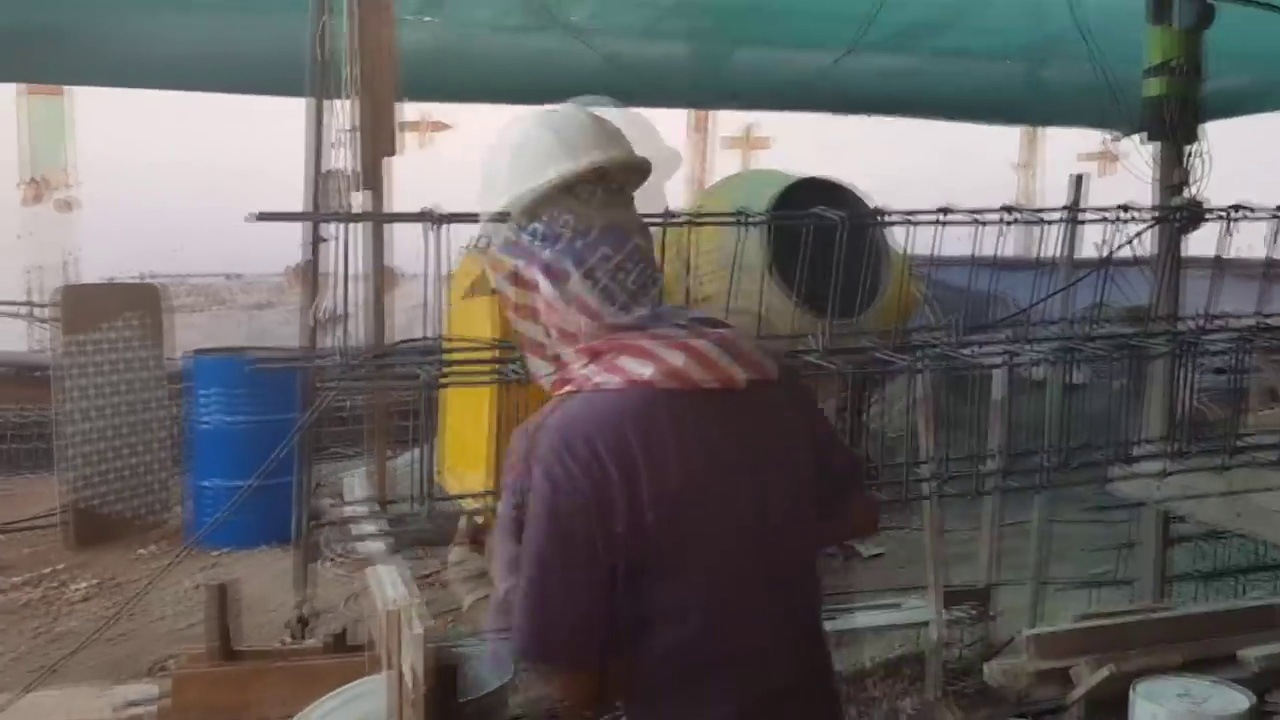helmet: (447, 118, 655, 294)
helmet-on: (446, 118, 711, 383)
person: (438, 106, 843, 719)
